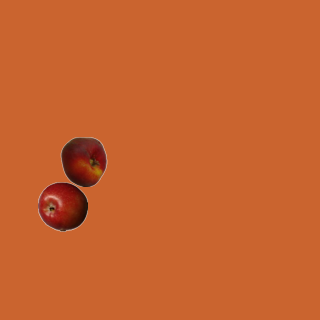Apple Braeburn: (37, 181, 87, 231)
Nectarine Flat: (58, 136, 108, 186)
